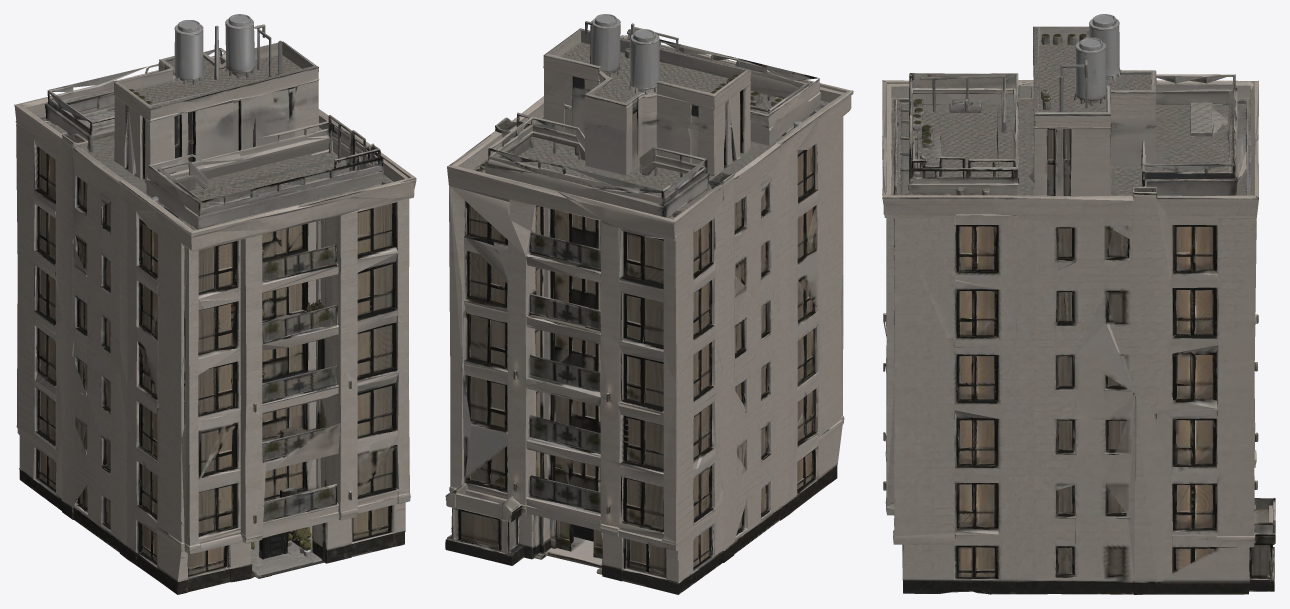
3 renders of one model, left to right at view 1: azimuth 30°, elevation 25°; view 2: azimuth 150°, elevation 25°; view 3: azimuth 270°, elevation 25°, orthographic. The views are drawn at different scales.
Parts seen in each view (by area): view 1: Mesh_0; view 2: Mesh_0; view 3: Mesh_0.
Boxes of the visible parts, bbox=[...] form: Mesh_0: bbox=[14, 14, 416, 594]; Mesh_0: bbox=[445, 14, 853, 594]; Mesh_0: bbox=[882, 14, 1275, 594].
Size of the model in its own units: 0.9398 by 1.9 by 1.32.
Materials: 1 (1 with a texture image).
